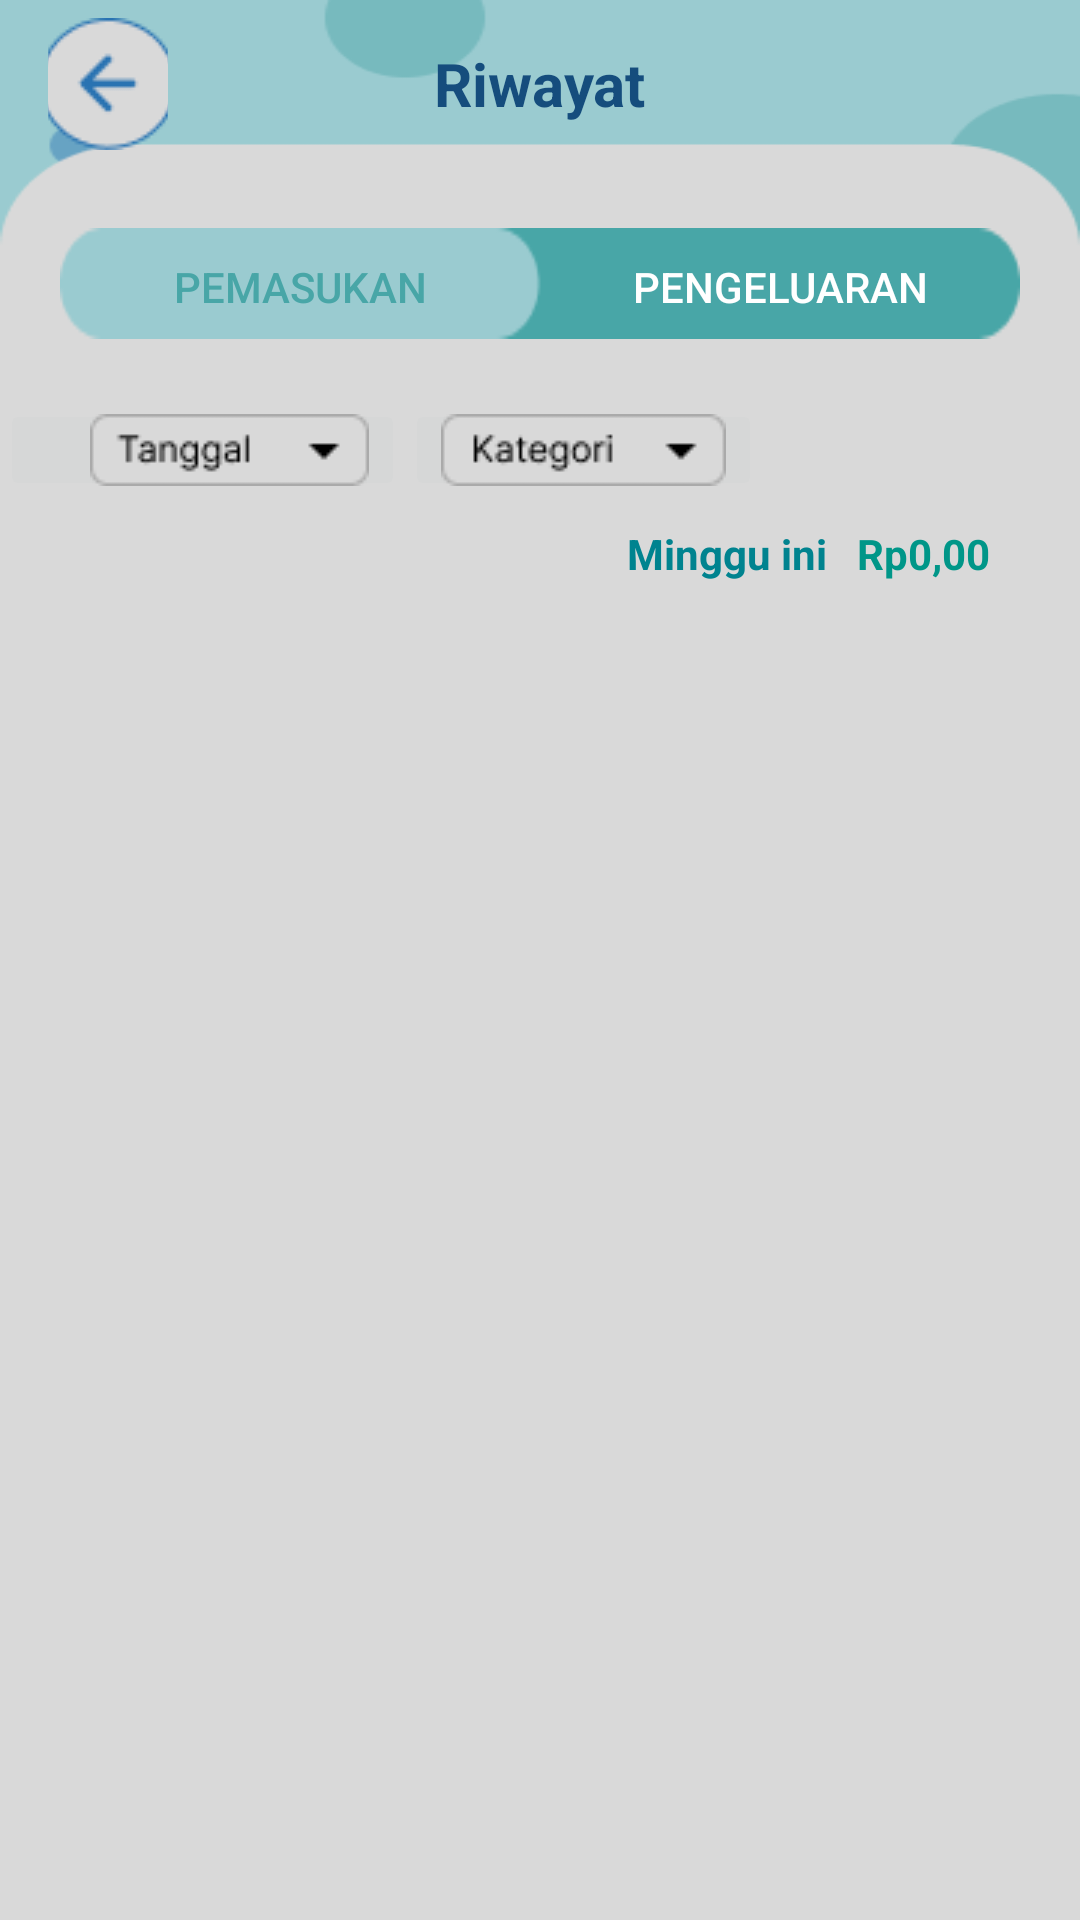

Point at icon controls on the screen. Image size 1080x1920, points as (x,y).
back: (108,93)
